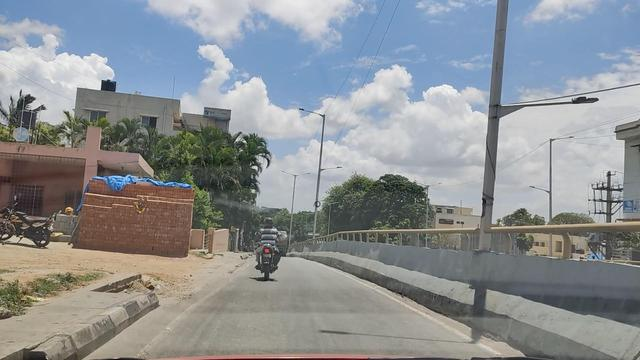LMV: (250, 217, 282, 278), (0, 210, 59, 240)
